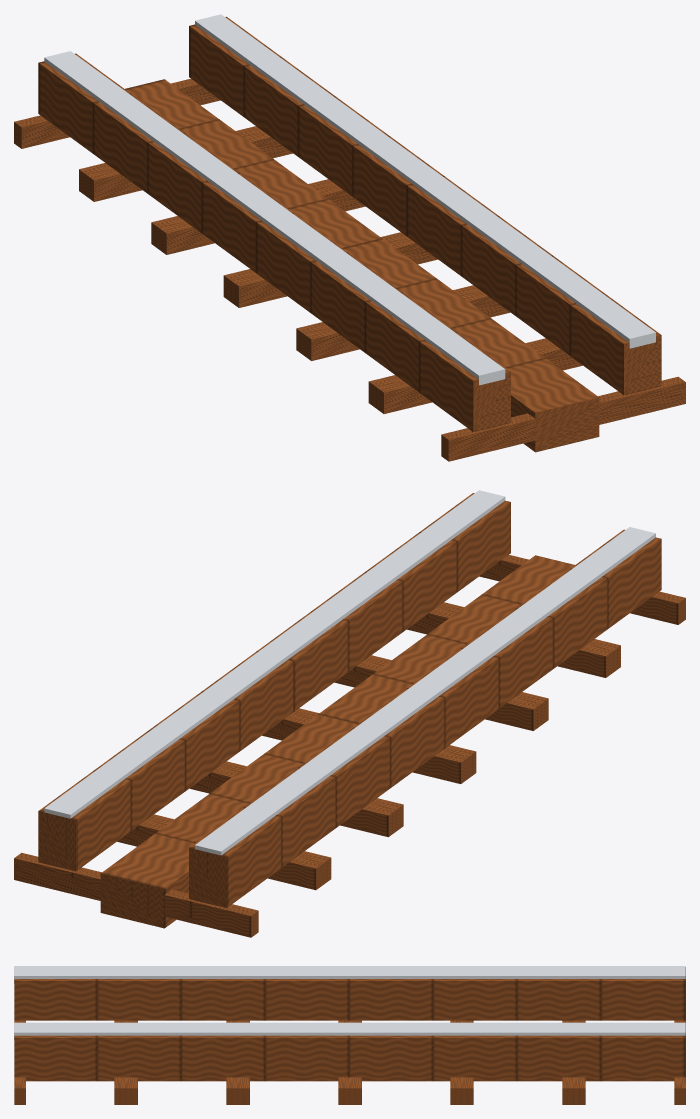
The model's file is theme-park-rides-and-coasters-theme-park-rides-and-coa-05fc4aac__28644.glb.
3 renders of one model, top to bottom at view 1: azimuth 30°, elevation 25°; view 2: azimuth 150°, elevation 25°; view 3: azimuth 270°, elevation 25°, orthographic. The views are drawn at different scales.
Parts seen in each view (by area): view 1: theme-park-rides-and-coasters-timber-track-straight-4m; view 2: theme-park-rides-and-coasters-timber-track-straight-4m; view 3: theme-park-rides-and-coasters-timber-track-straight-4m.
Part boxes in pixels (x1,y1,x2,y2): theme-park-rides-and-coasters-timber-track-straight-4m: [14, 14, 685, 461]; theme-park-rides-and-coasters-timber-track-straight-4m: [14, 490, 685, 937]; theme-park-rides-and-coasters-timber-track-straight-4m: [14, 966, 685, 1104].
Bounding box in the file's own units: 1.26 × 0.4599 × 4.
2 materials, 1 textured.
